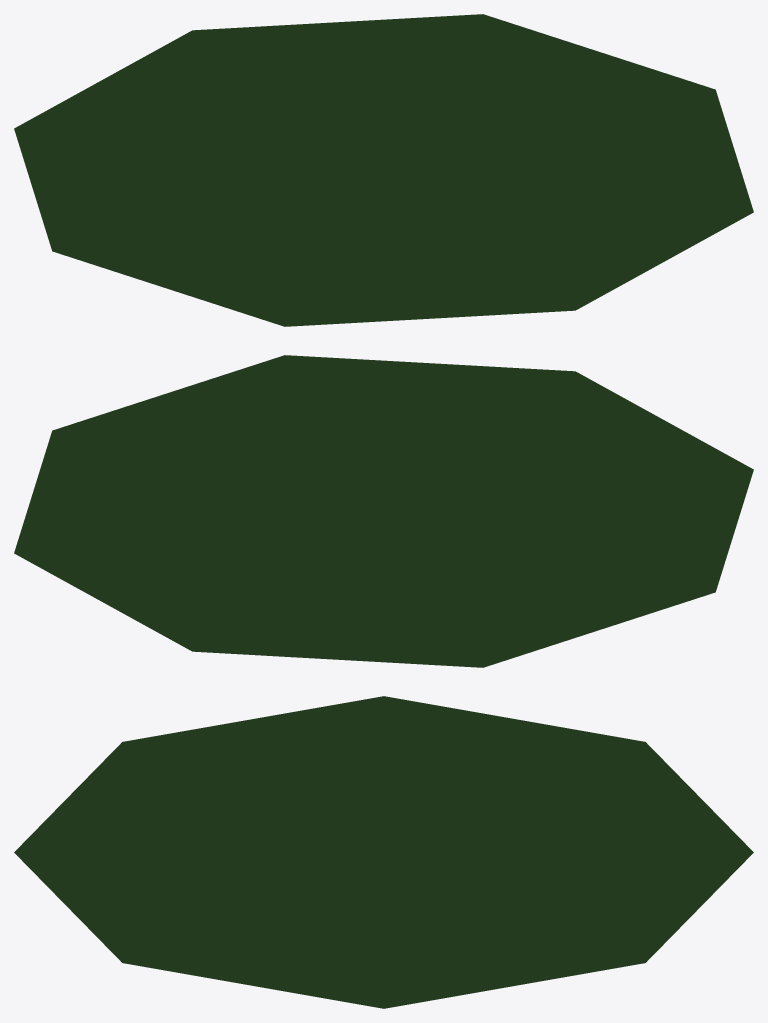
The model's file is blob.glb.
The picture shows the model from 3 angles, top to bottom: view 1: azimuth 30°, elevation 25°; view 2: azimuth 150°, elevation 25°; view 3: azimuth 270°, elevation 25°; orthographic projection. The views are drawn at different scales.
Parts seen in each view (by area): view 1: blob; view 2: blob; view 3: blob.
Boxes of the visible parts, x1,y1,x2,y2 form: blob: (14, 14, 753, 326); blob: (14, 355, 753, 667); blob: (14, 696, 753, 1008).
Size of the model in its own units: 0.32 by 0 by 0.32.
